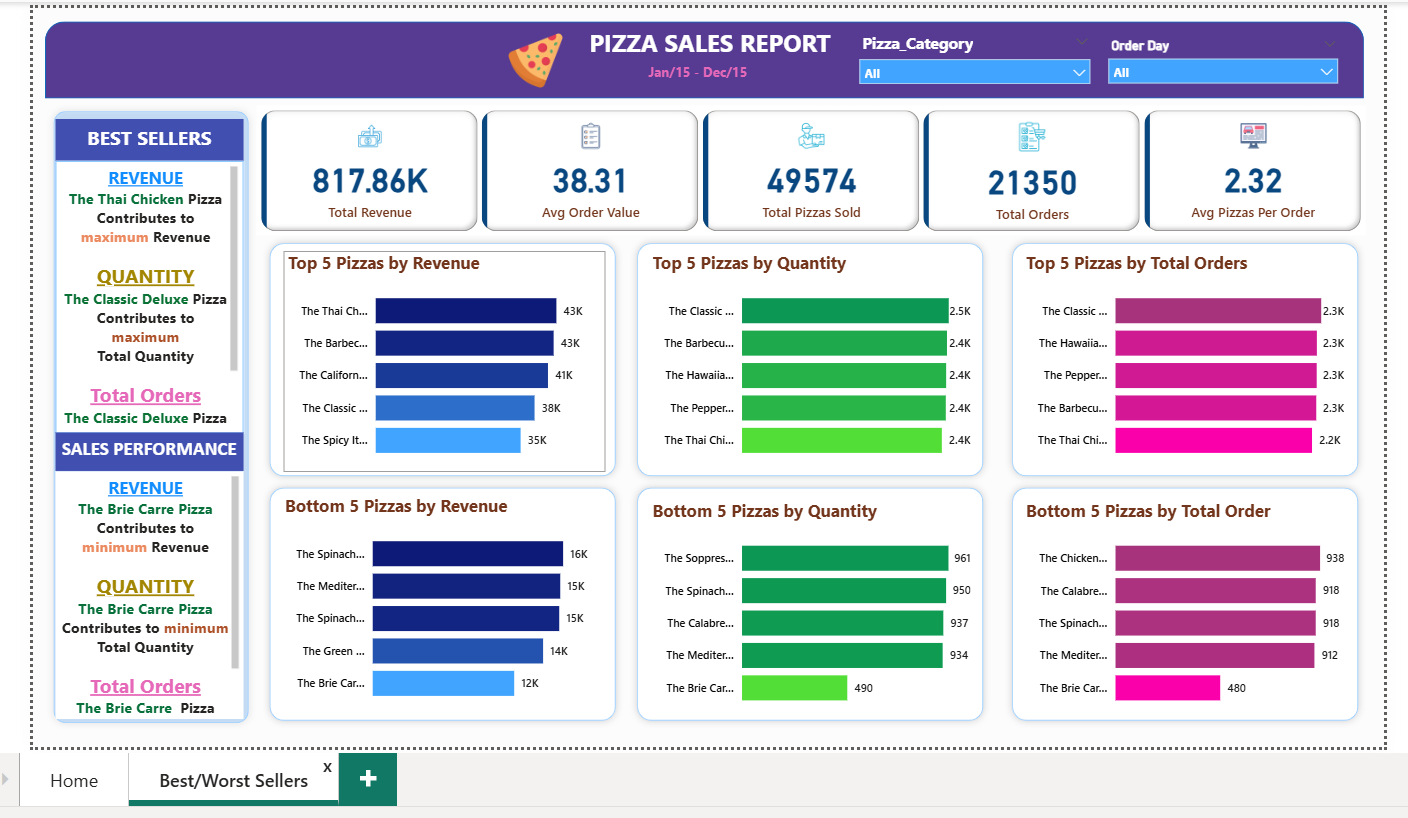

The dashboard page shown, as its layout file describes it:
{"tool":"powerbi","page":{"name":"Best/Worst Sellers","canvas":[1500,820],"ordinal":1},"visuals":[{"type":"cardVisual","fields":{"Data":["pizza_sales.Total Revenue","pizza_sales.Avg Order Value","pizza_sales.Total Pizzas Sold","pizza_sales.Total Orders","pizza_sales.Avg Pizzas Per Order"]},"box":[247.5,108.5,1230.5,144.1],"z":0},{"type":"shape","box":[15.3,106.8,232.2,694.9],"z":1000},{"type":"shape","box":[12.7,14.5,1463.6,85.5],"z":2000},{"type":"textbox","box":[558.2,14.5,387.3,72.7],"z":3000},{"type":"textbox","box":[654.5,54.5,167.3,32.7],"z":4000},{"type":"image","box":[507.3,21.8,100,72.7],"z":5000},{"type":"shape","box":[254.2,252.5,400,274.6],"z":6000},{"type":"textbox","box":[25.4,123.7,208.5,45.8],"z":7000},{"type":"textbox","box":[25.4,169.5,208.5,301.7],"z":8000},{"type":"textbox","box":[25.4,471.2,208.5,42.4],"z":9000},{"type":"textbox","box":[25.4,513.6,208.5,274.6],"z":10000},{"type":"slicer","fields":{"Values":["pizza_sales.pizza_category"]},"box":[906.8,22,276.3,66.1],"z":11000},{"type":"shape","box":[662.7,252.5,400,274.6],"z":12000},{"type":"shape","box":[1078,252.5,400,274.6],"z":13000},{"type":"shape","box":[254.2,523.7,400,274.6],"z":14000},{"type":"shape","box":[662.7,523.7,400,274.6],"z":15000},{"type":"shape","box":[1078,523.7,400,274.6],"z":16000},{"type":"barChart","title":"Top 5 Pizzas by Revenue","fields":{"Category":["pizza_sales.pizza_name"],"Y":["pizza_sales.Total Revenue"]},"box":[278,269.5,357.6,244.1],"z":17000},{"type":"slicer","fields":{"Values":["pizza_sales.Order Day"]},"box":[1183.1,28.8,274.6,66.1],"z":18000},{"type":"barChart","title":"Bottom 5 Pizzas by Revenue","fields":{"Category":["pizza_sales.pizza_name"],"Y":["pizza_sales.Total Revenue"]},"box":[274.6,539,357.6,244.1],"z":19000},{"type":"barChart","title":"Top 5 Pizzas by Quantity","fields":{"Category":["pizza_sales.pizza_name"],"Y":["pizza_sales.Total Pizzas Sold"]},"box":[683.1,269.5,362.7,244.1],"z":20000},{"type":"barChart","title":"Bottom 5 Pizzas by Quantity","fields":{"Category":["pizza_sales.pizza_name"],"Y":["pizza_sales.Total Pizzas Sold"]},"box":[683.1,544.1,362.7,244.1],"z":21000},{"type":"barChart","title":"Top 5 Pizzas by Total Orders","fields":{"Category":["pizza_sales.pizza_name"],"Y":["pizza_sales.Total Orders"]},"box":[1096.6,269.5,362.7,244.1],"z":22000},{"type":"barChart","title":"Bottom 5 Pizzas by Total Order","fields":{"Category":["pizza_sales.pizza_name"],"Y":["pizza_sales.Total Orders"]},"box":[1096.6,544.1,362.7,244.1],"z":23000}]}

Visuals, with their boxes on the page's 1500x820 design canvas (x1, y1, x2, y2). These are canvas units, not pixel positions in the 1408x818 screenshot, which may show the page scaled, cropped or inside an application window:
cardVisual - pizza_sales.Total Revenue x pizza_sales.Avg Order Value: region(248, 108, 1478, 253)
shape: region(15, 107, 248, 802)
shape: region(13, 14, 1476, 100)
textbox: region(558, 14, 946, 87)
textbox: region(654, 54, 822, 87)
image: region(507, 22, 607, 94)
shape: region(254, 252, 654, 527)
textbox: region(25, 124, 234, 170)
textbox: region(25, 170, 234, 471)
textbox: region(25, 471, 234, 514)
textbox: region(25, 514, 234, 788)
slicer - pizza_sales.pizza_category: region(907, 22, 1183, 88)
shape: region(663, 252, 1063, 527)
shape: region(1078, 252, 1478, 527)
shape: region(254, 524, 654, 798)
shape: region(663, 524, 1063, 798)
shape: region(1078, 524, 1478, 798)
"Top 5 Pizzas by Revenue" barChart: region(278, 270, 636, 514)
slicer - pizza_sales.Order Day: region(1183, 29, 1458, 95)
"Bottom 5 Pizzas by Revenue" barChart: region(275, 539, 632, 783)
"Top 5 Pizzas by Quantity" barChart: region(683, 270, 1046, 514)
"Bottom 5 Pizzas by Quantity" barChart: region(683, 544, 1046, 788)
"Top 5 Pizzas by Total Orders" barChart: region(1097, 270, 1459, 514)
"Bottom 5 Pizzas by Total Order" barChart: region(1097, 544, 1459, 788)
